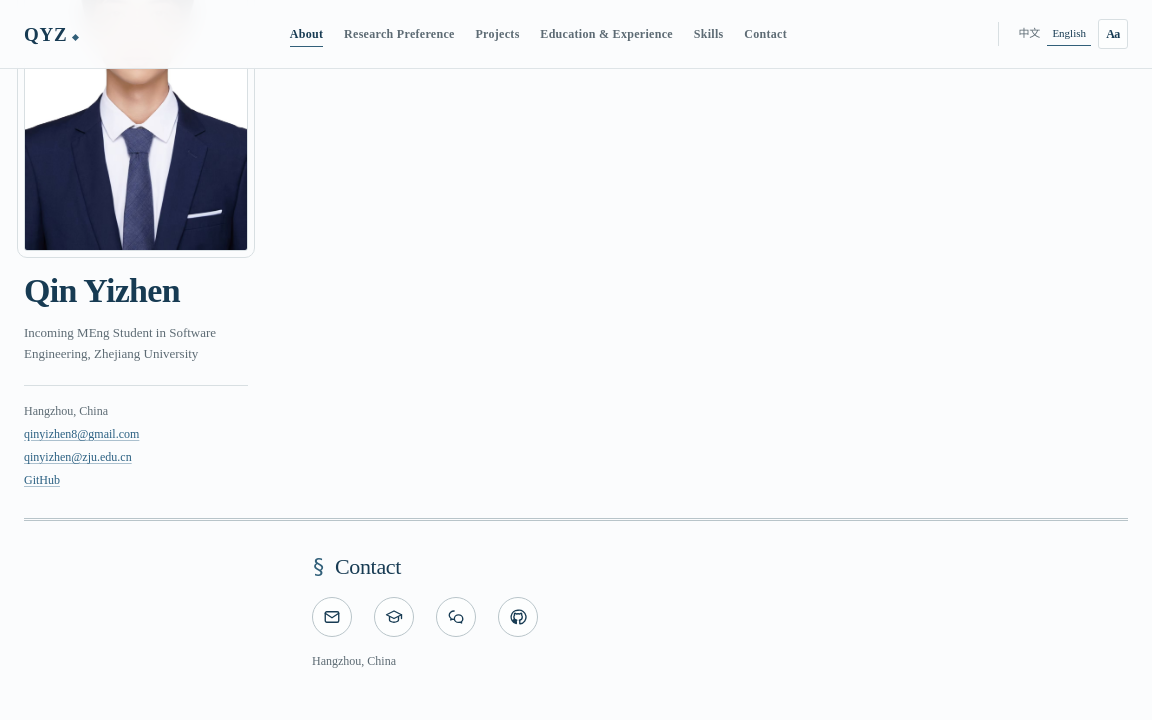
Test: shows contact channel icons and reveals details on click
(page scrolled)
Click the button named "Academic Email". click: (394, 617)
box: [374, 597, 414, 637]
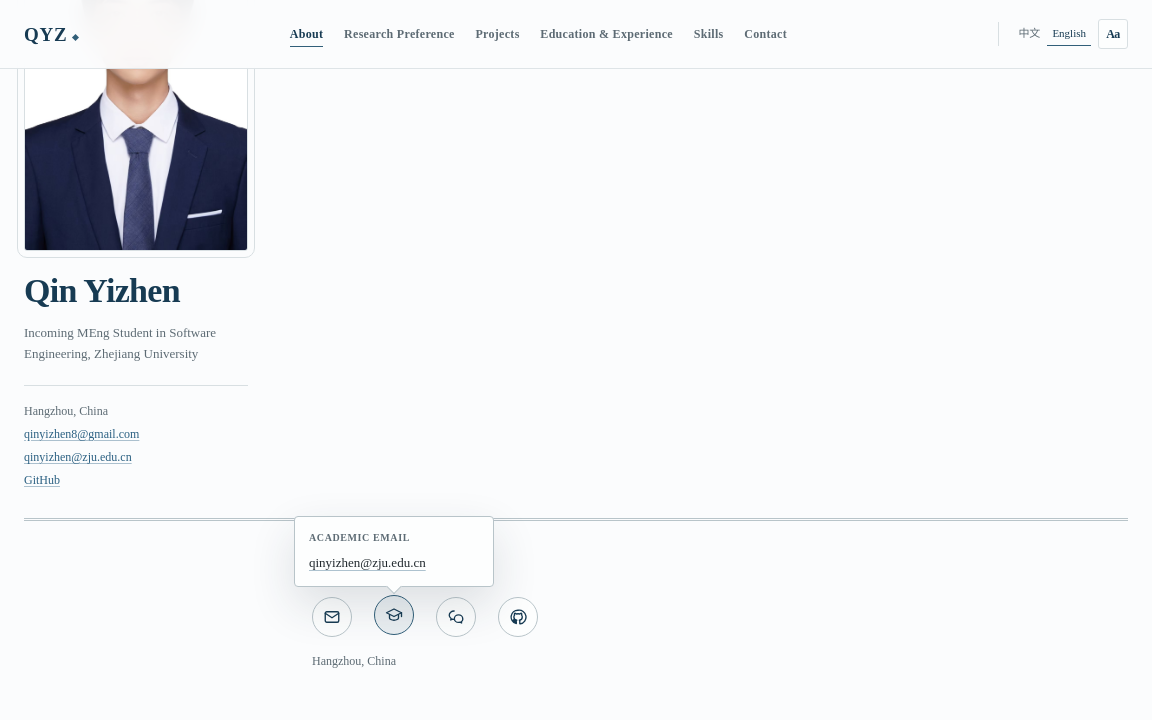
Click the button named "WeChat". click: (456, 617)
box: [436, 597, 476, 637]
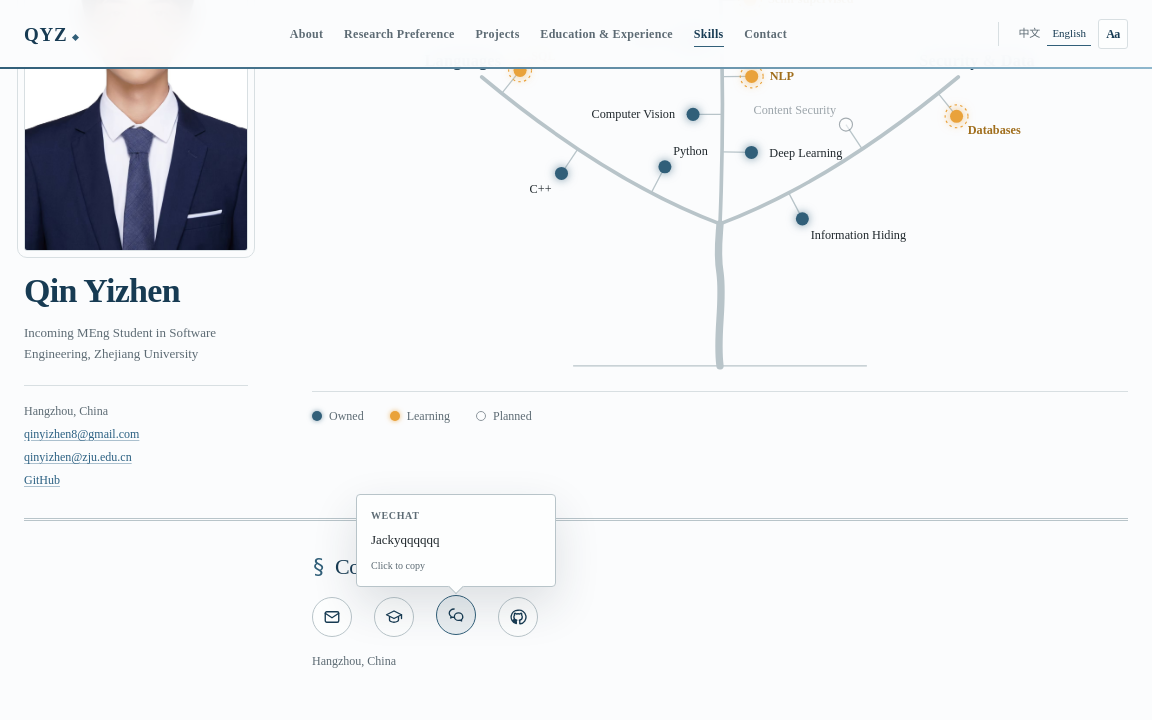
Expected: the button "Jackyqqqqqq" is shown, [371, 529, 440, 552]
